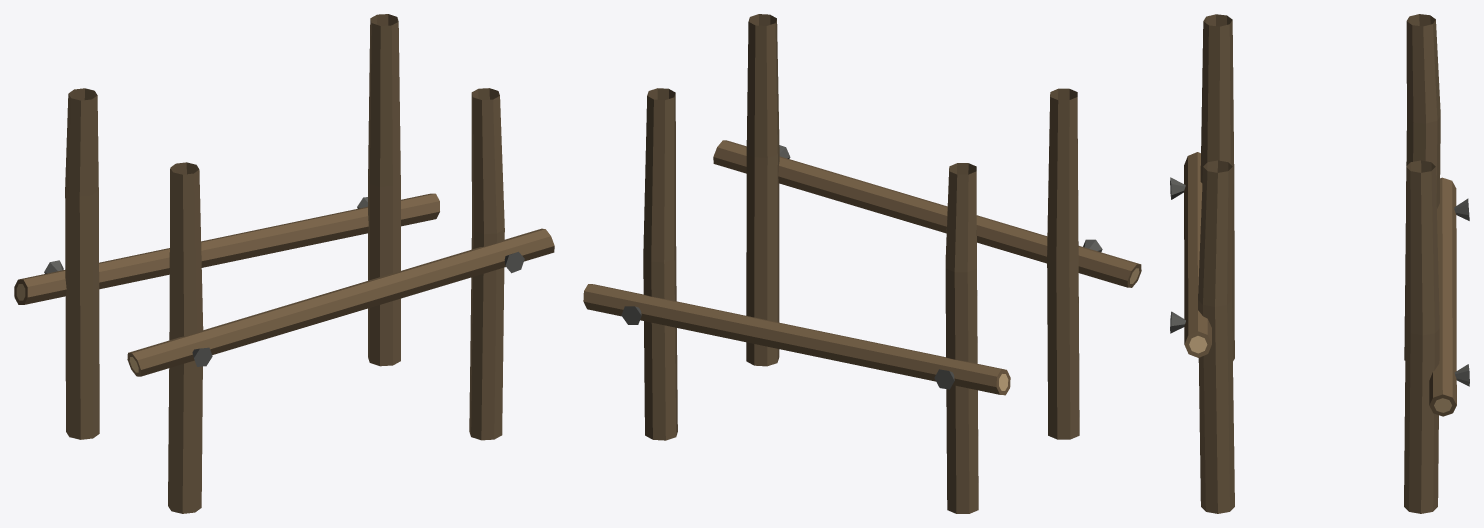
The model's file is rpgpp_ag_wall_platform_02_4x4_support_01b.fbx.
3 renders of one model, left to right at view 1: azimuth 30°, elevation 25°; view 2: azimuth 150°, elevation 25°; view 3: azimuth 270°, elevation 25°, orthographic.
Visible parts, largest first — view 1: rpgpp_ag_wall_platform_02_4x4_support_01b; view 2: rpgpp_ag_wall_platform_02_4x4_support_01b; view 3: rpgpp_ag_wall_platform_02_4x4_support_01b.
Part boxes in pixels (<box>): rpgpp_ag_wall_platform_02_4x4_support_01b: <box>14,14,554,513</box>; rpgpp_ag_wall_platform_02_4x4_support_01b: <box>583,14,1141,513</box>; rpgpp_ag_wall_platform_02_4x4_support_01b: <box>1170,14,1469,513</box>.
Size of the model in its own units: 5.09 by 3.87 by 3.1.
